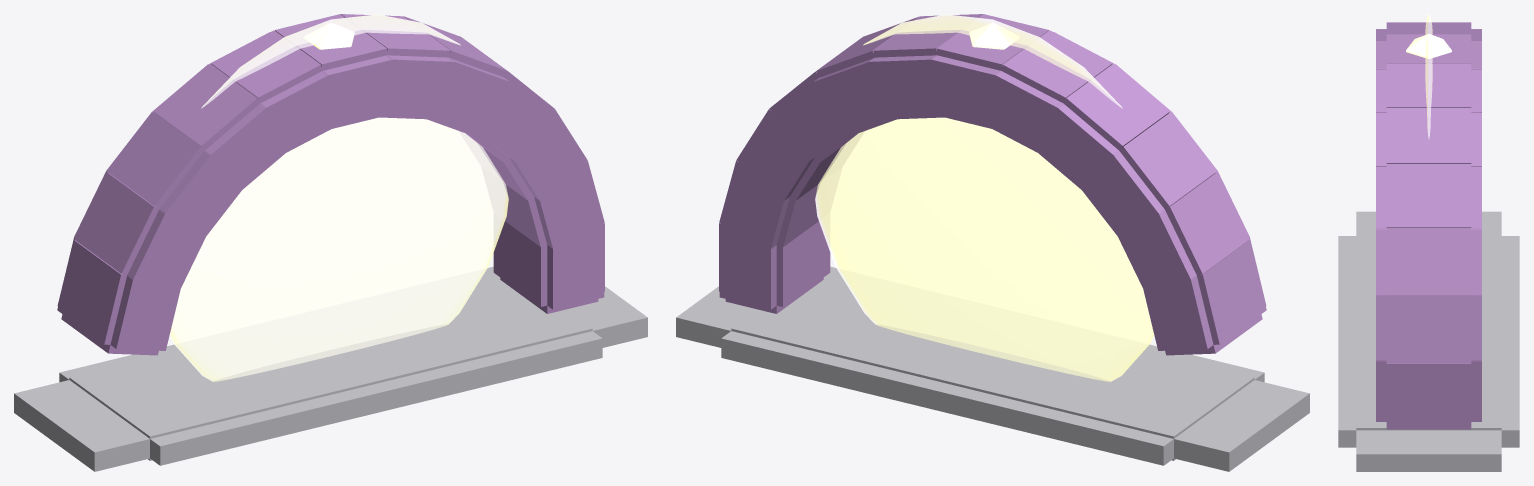
The model's file is build_portal_alien.glb.
3 views of the same model, side by side, from view 1: azimuth 30°, elevation 25°; view 2: azimuth 150°, elevation 25°; view 3: azimuth 270°, elevation 25° (orthographic). The views are drawn at different scales.
Parts seen in each view (by area): view 1: box; view 2: box; view 3: box.
Part boxes in pixels (x1,y1,x2,y2): box: (14, 14, 647, 471); box: (676, 14, 1309, 471); box: (1338, 14, 1519, 471).
Bounding box in the file's own units: 3.8 × 2.5 × 1.2.
